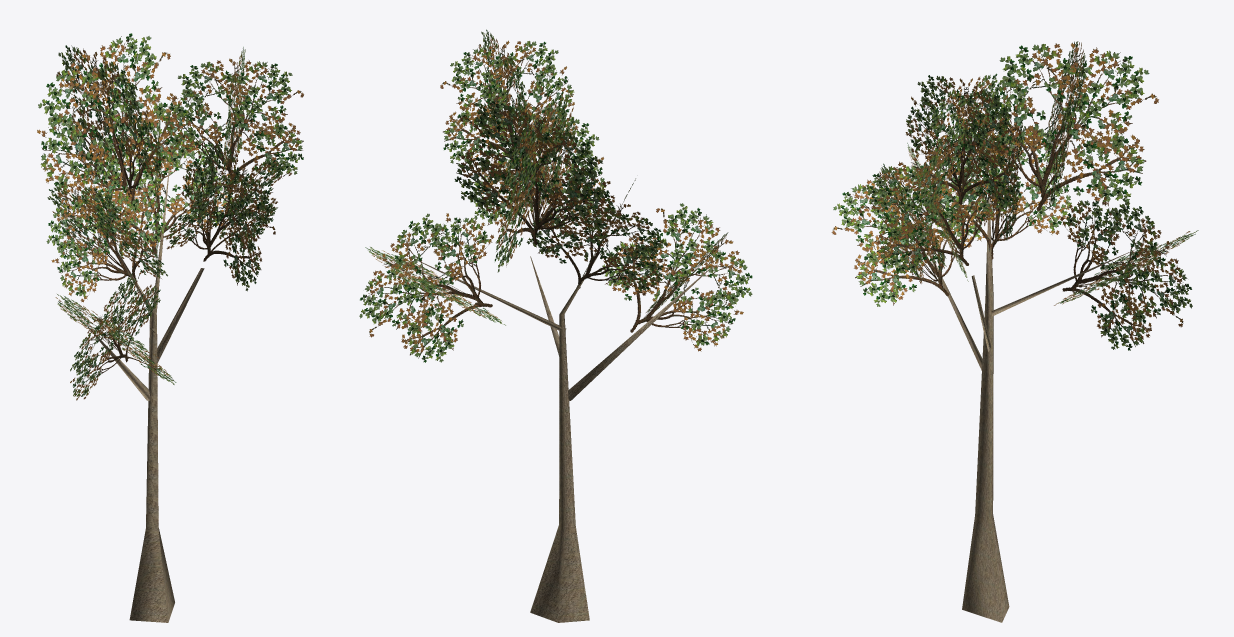
File: decd_mapletreeleaves_l2.fbx
3 renders of one model, left to right at view 1: azimuth 30°, elevation 25°; view 2: azimuth 150°, elevation 25°; view 3: azimuth 270°, elevation 25°, orthographic. The views are drawn at different scales.
Parts seen in each view (by area): view 1: mesh_node; view 2: mesh_node; view 3: mesh_node.
Part boxes in pixels (left/top/right/bottom): mesh_node: left=37, top=33, right=303, bottom=622; mesh_node: left=359, top=29, right=752, bottom=622; mesh_node: left=831, top=41, right=1198, bottom=622.
Bounding box in the file's own units: 9.66 × 16.47 × 10.56.
